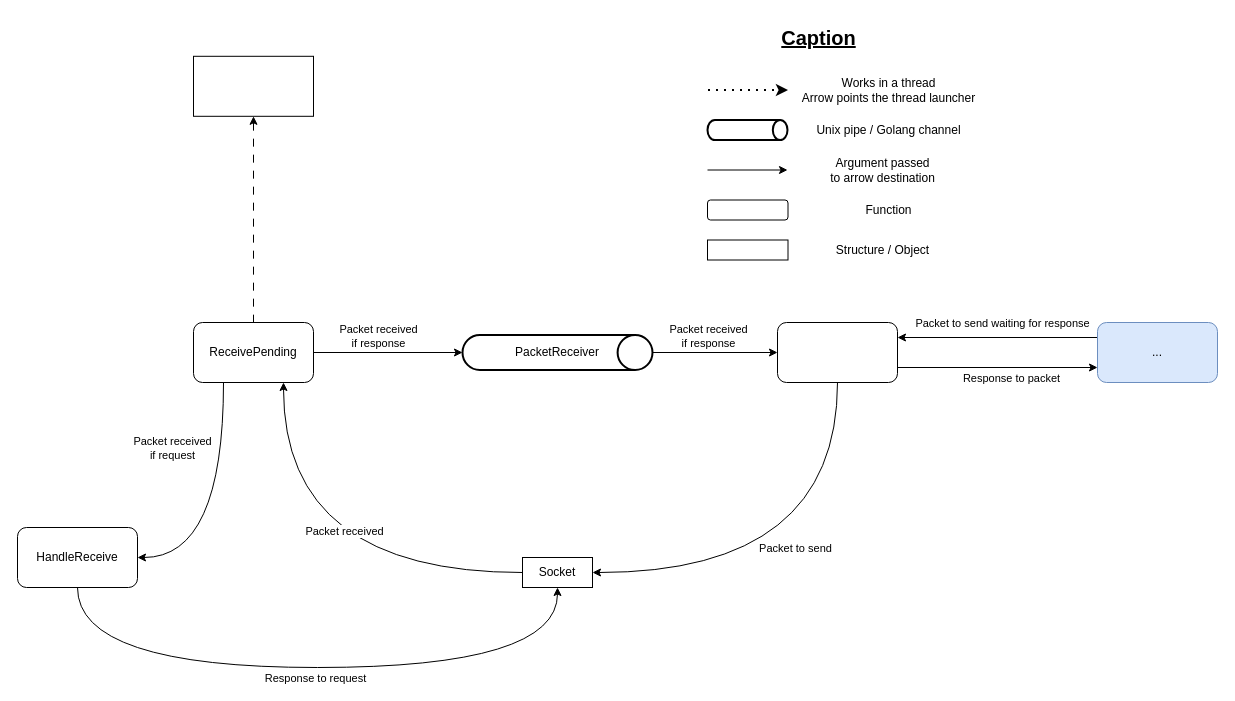
Image size: 1235x701. Some labels were removed from this diagram. Here are the shapes that lost their labels. From the top down, the centre of each, then its label:
pixel 253 85: Scheduler
pixel 837 352: SendPacket
